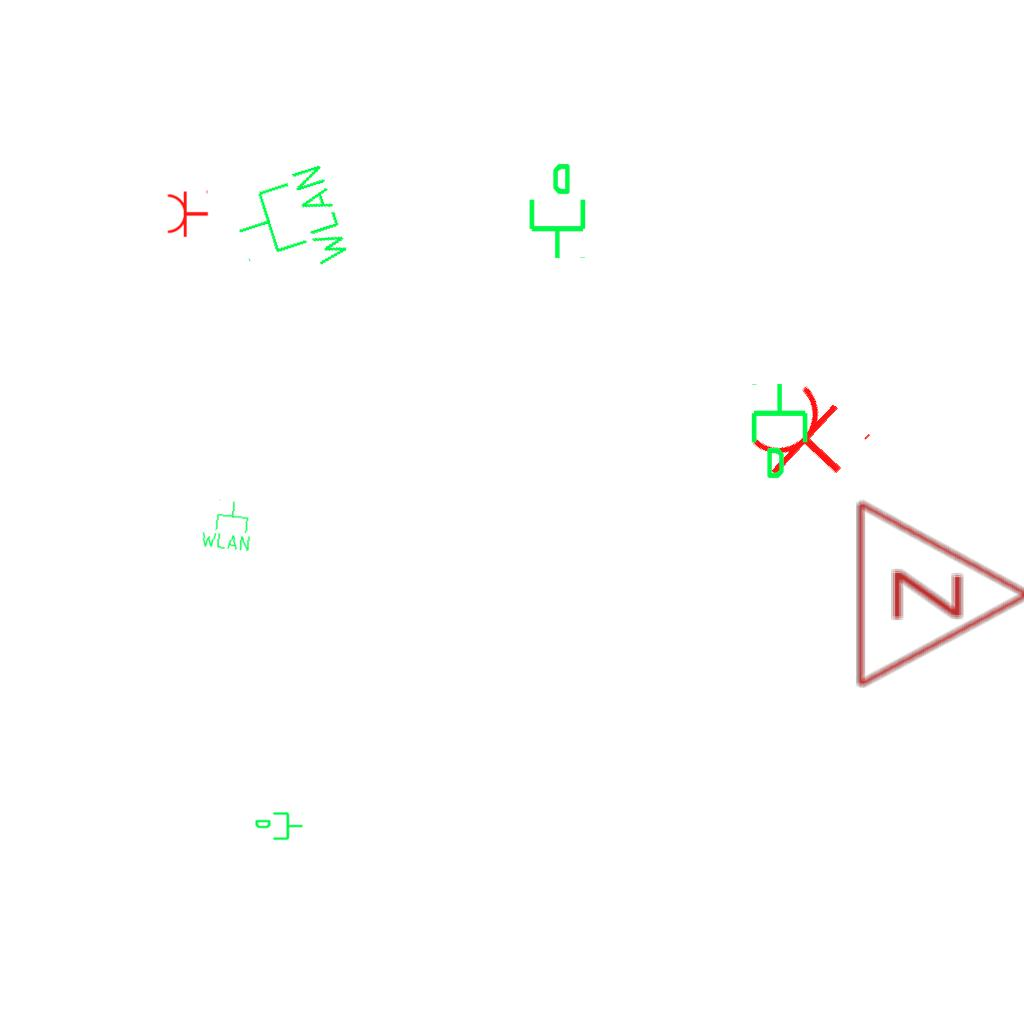Datenanschluss_einfach: (521, 161, 590, 261), (747, 381, 816, 481), (254, 810, 304, 844)
Schukosteckdose_einfach: (743, 374, 876, 508), (166, 188, 209, 238)
WLAN: (223, 159, 355, 292), (198, 496, 256, 554)
Zimmersignalleuchte: (843, 494, 1024, 690)
